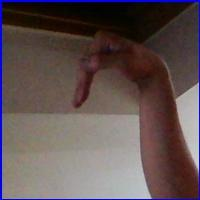A: (70, 27, 167, 113)
